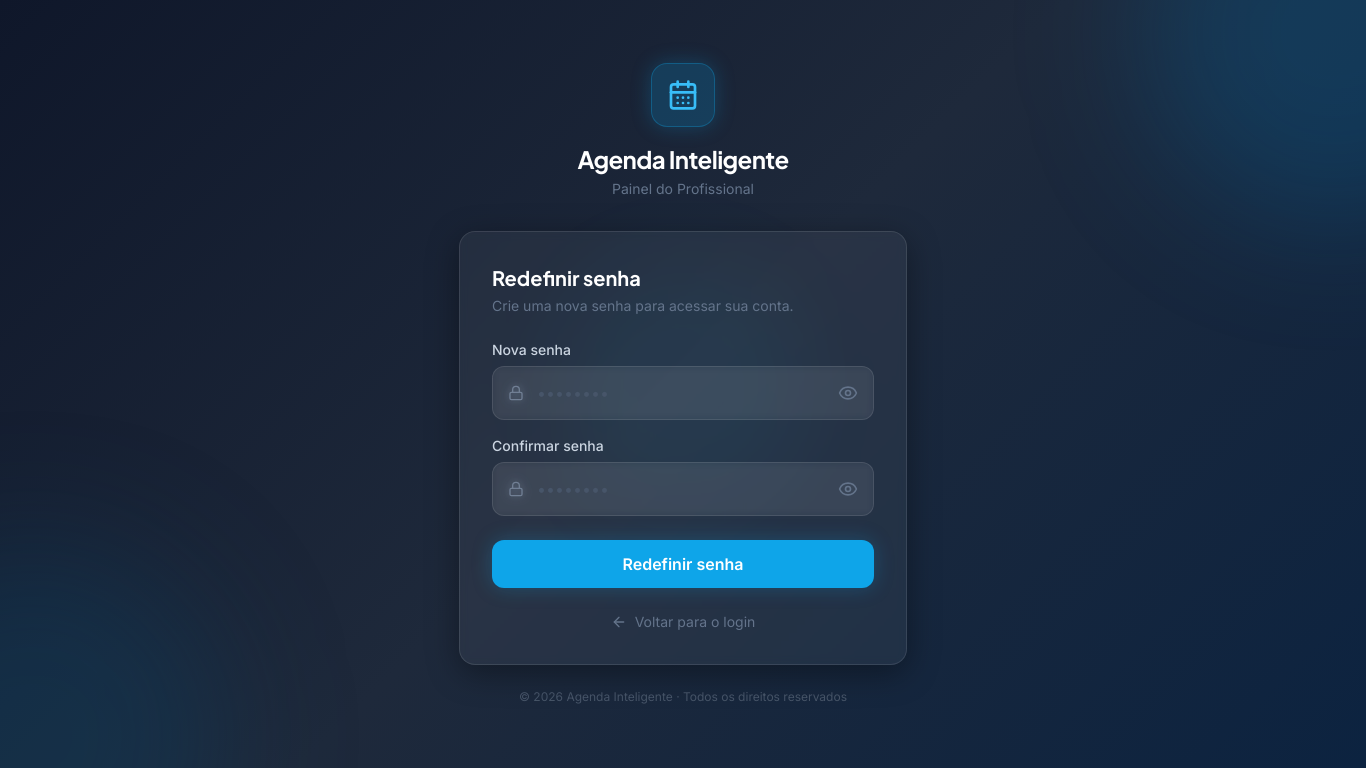
Test: ResetPasswordPage › shows error when password is too short
In the password field labelled "Nova senha": [683, 393] box [492,366,874,420], type "123"
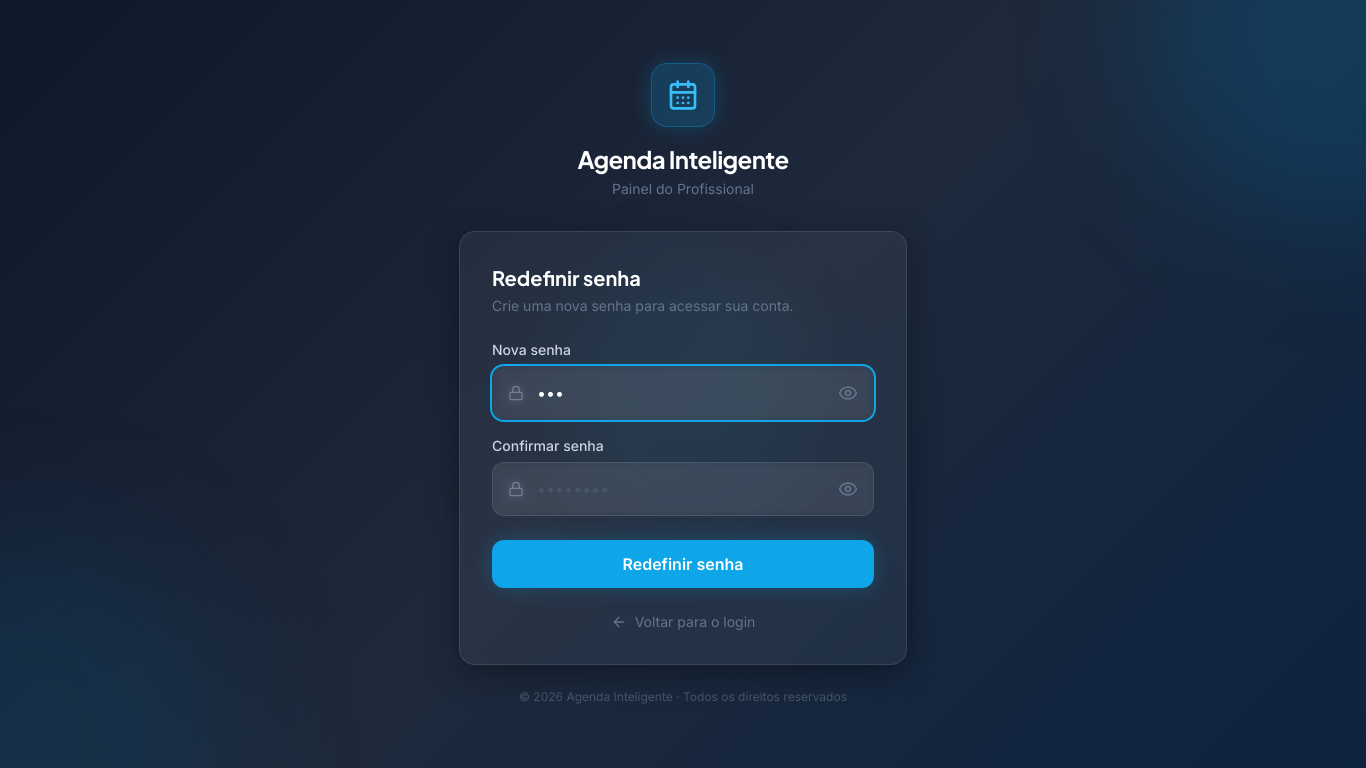
In the password field labelled "Confirmar senha": [683, 489] box [492,462,874,516], type "123"
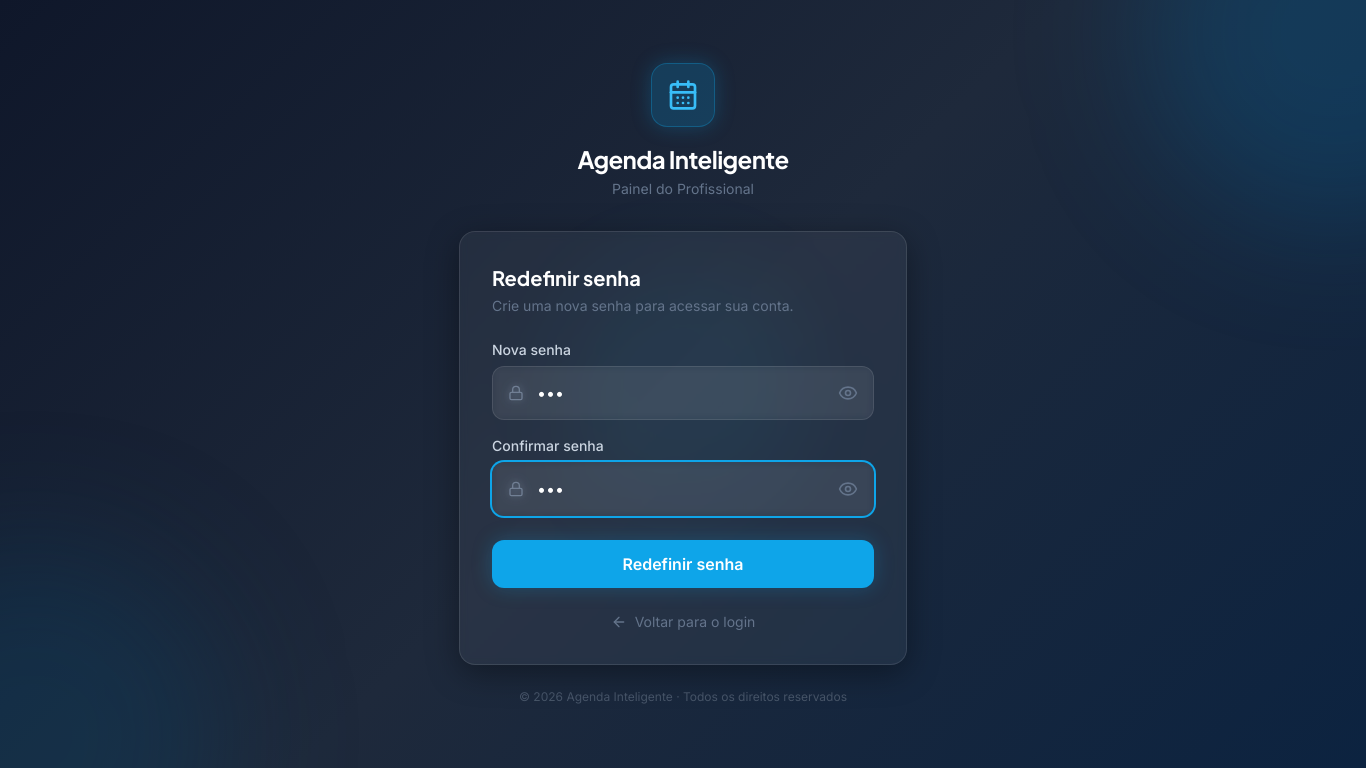
Submit the form "Nova senha Confirmar senha Redefinir senha", box [492,340,874,588]
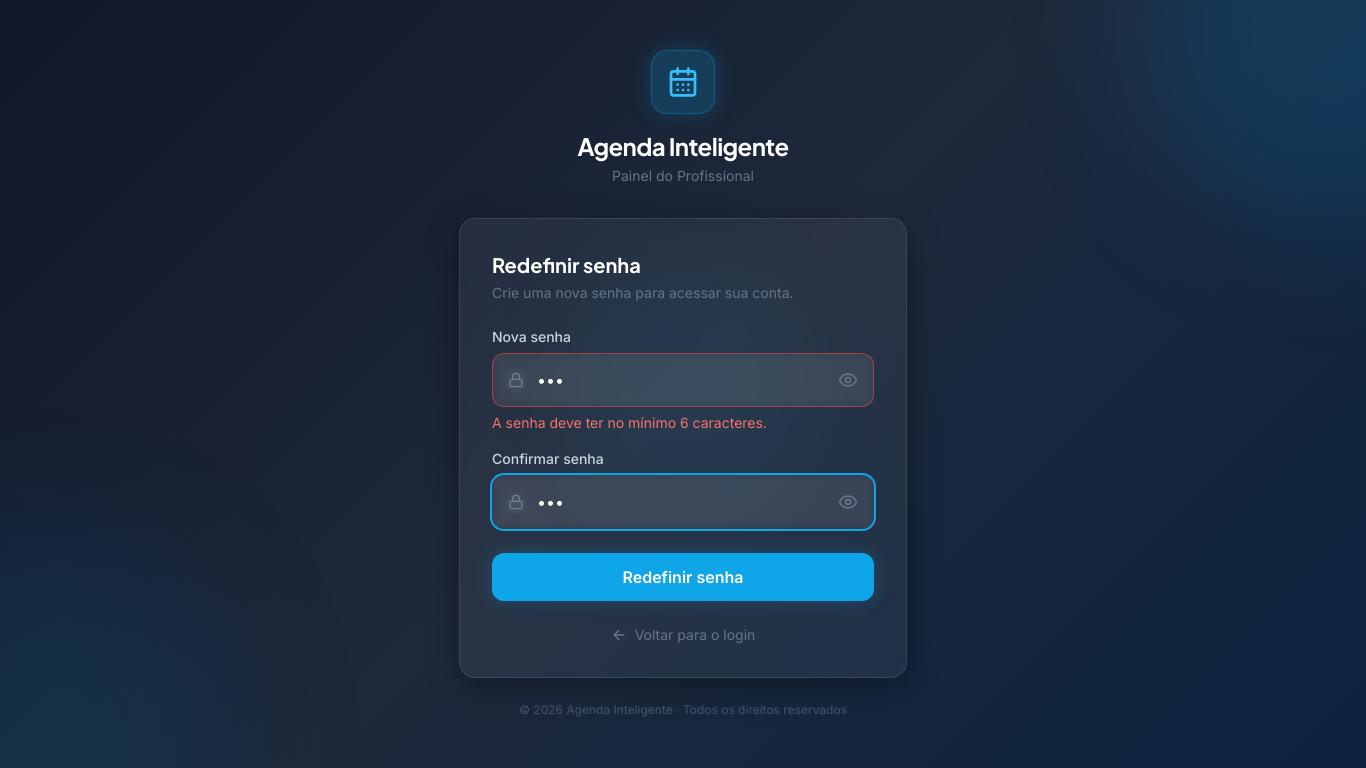
expect the text "A senha deve ter no mínimo 6 caracteres." is shown: met, box [492,414,767,431]
